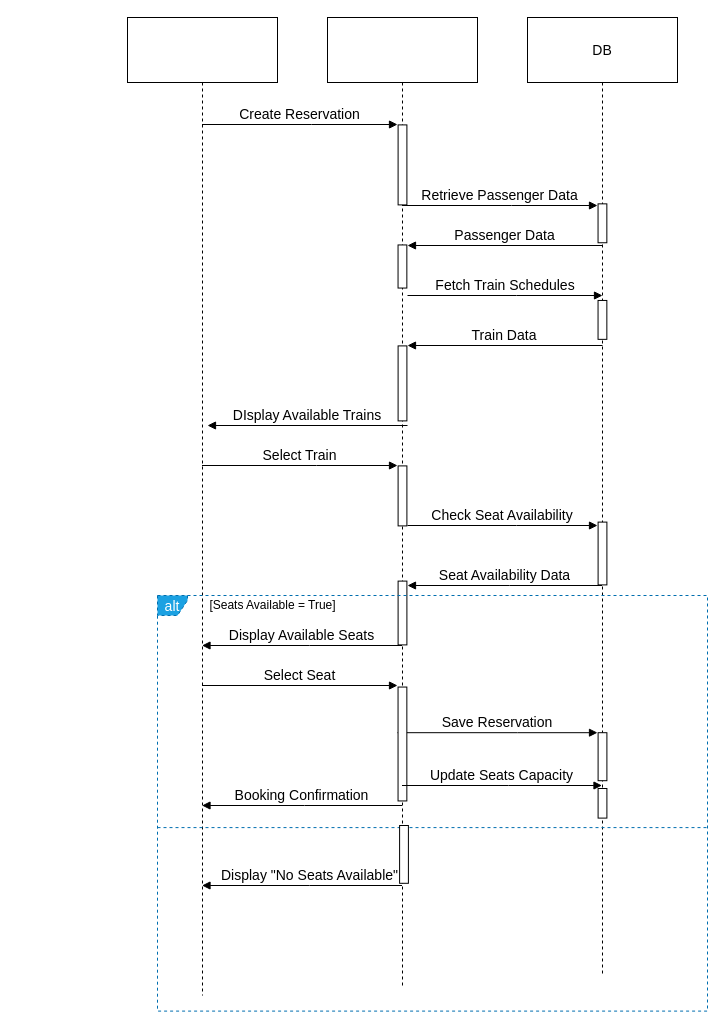
The diagram is 725 pixels wide and 1029 high, and some of its shapes have lost their labels. The box of each missing label's shape, as (x1, y1, x2, y2) in pixels:
Staff Member: (126, 16, 278, 996)
System: (326, 16, 478, 986)
